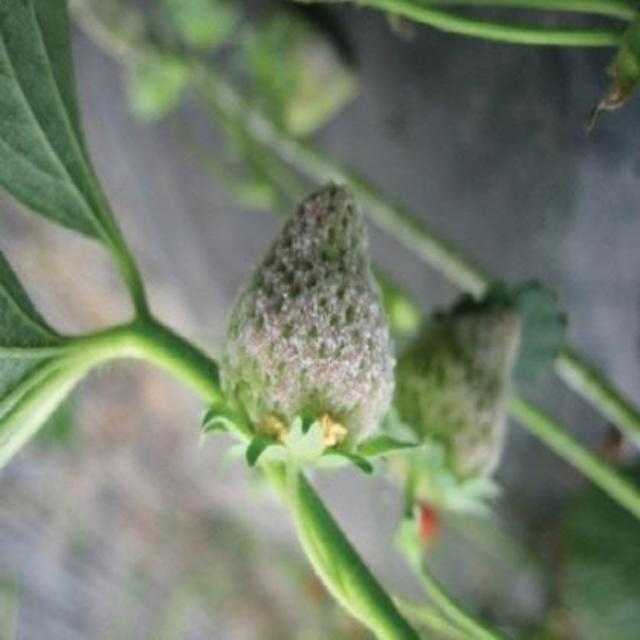Powdery Mildew Fruit: (217, 183, 397, 469), (379, 302, 524, 501)
